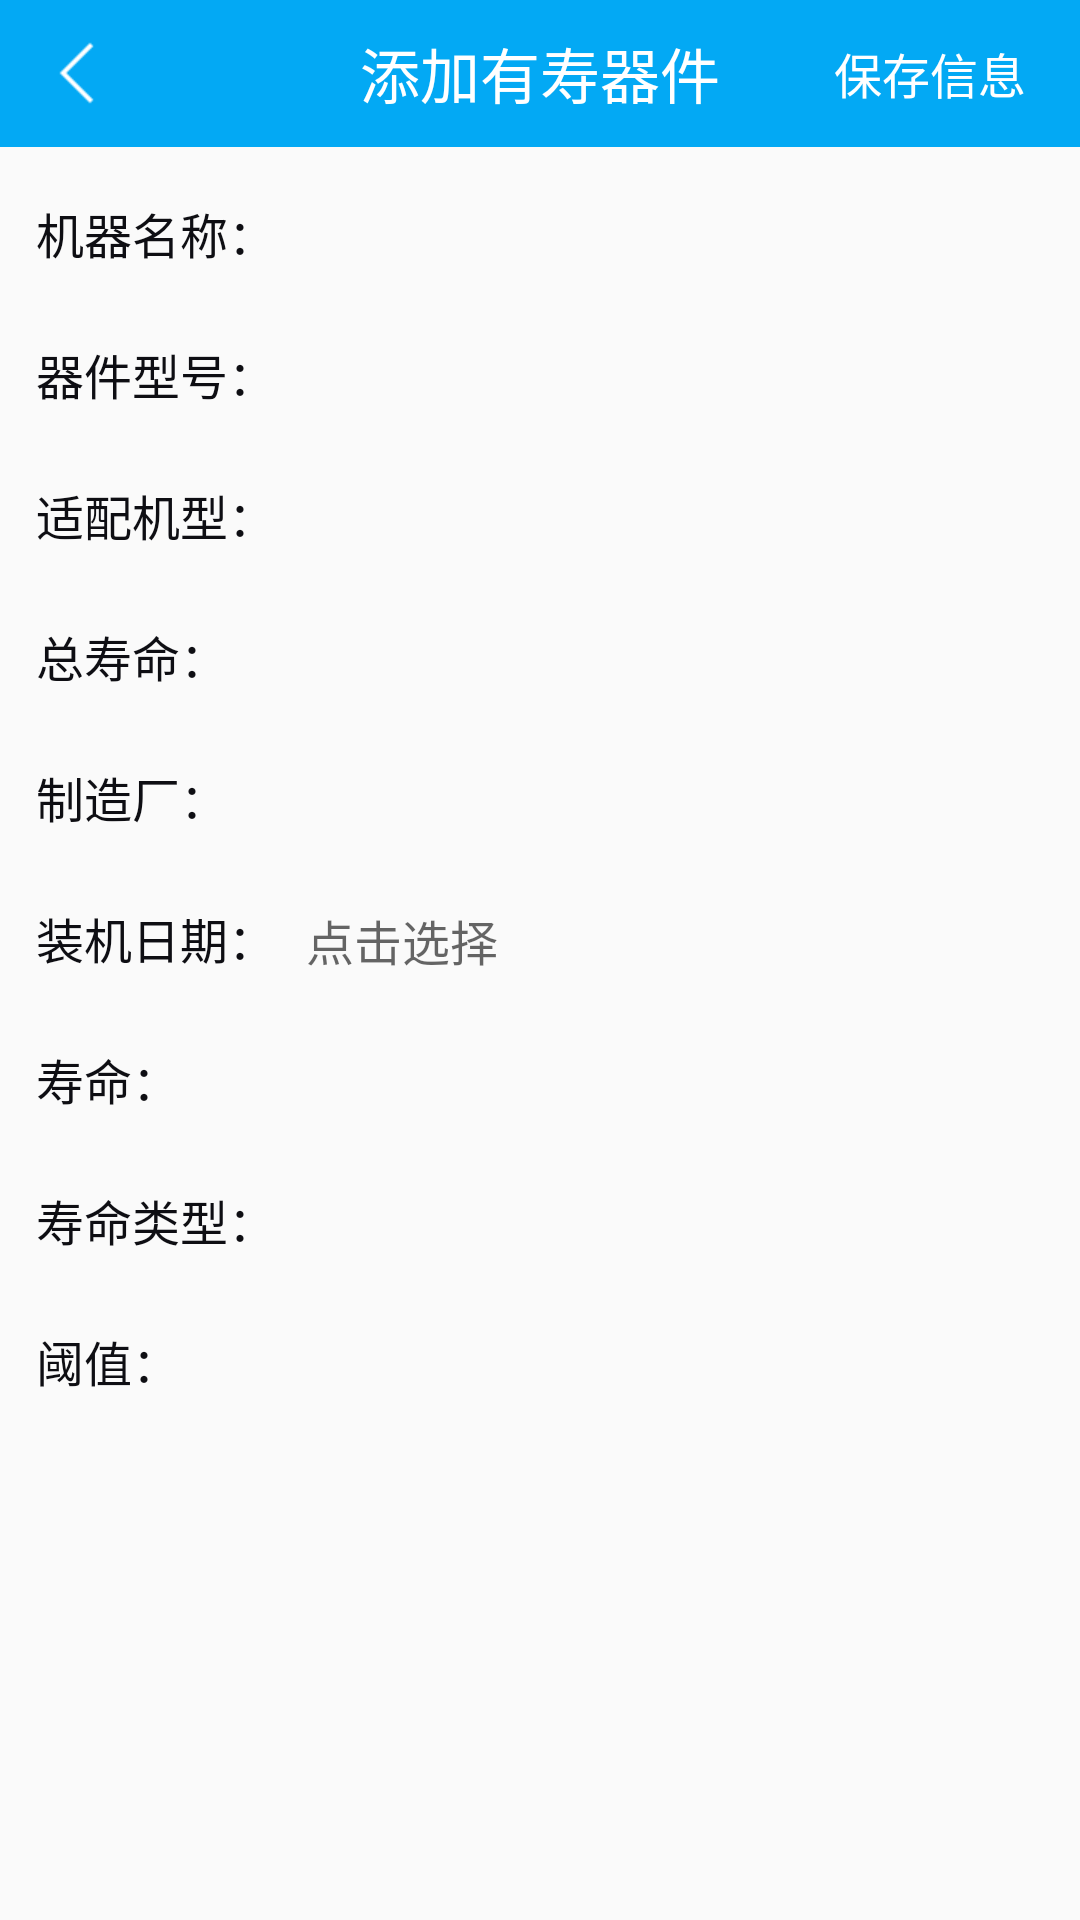

Icon bounding boxes for this 1080 x 1920 phone screenshot, format (x1, y1, x2, y2):
back: (59, 43, 94, 103)
